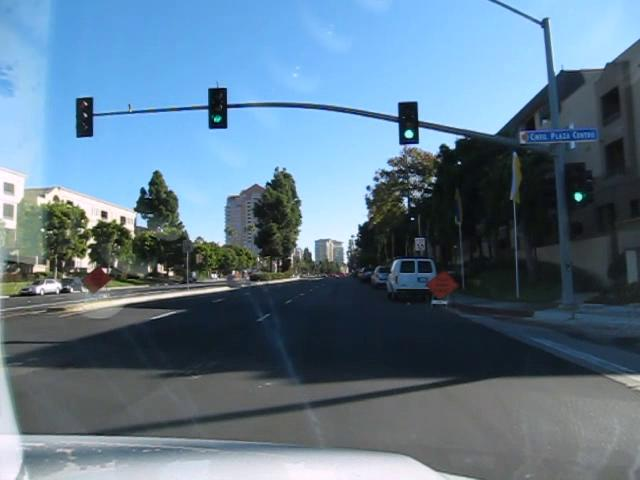speedLimit35: (413, 236, 425, 251)
